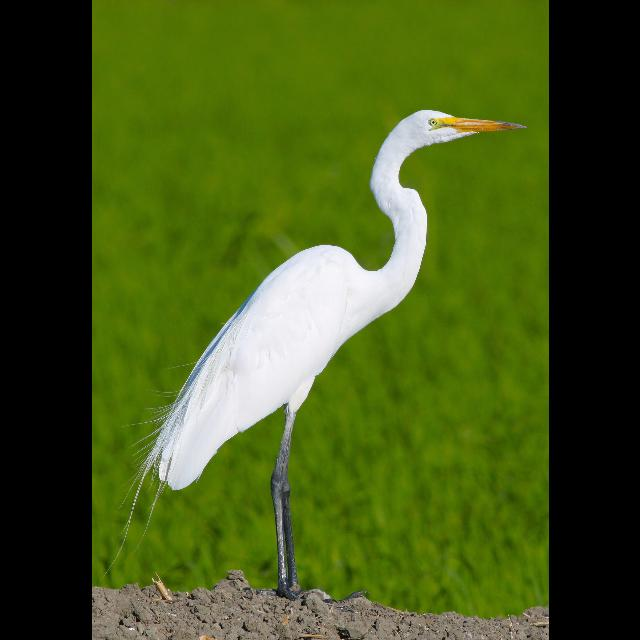egret: (126, 98, 528, 596)
